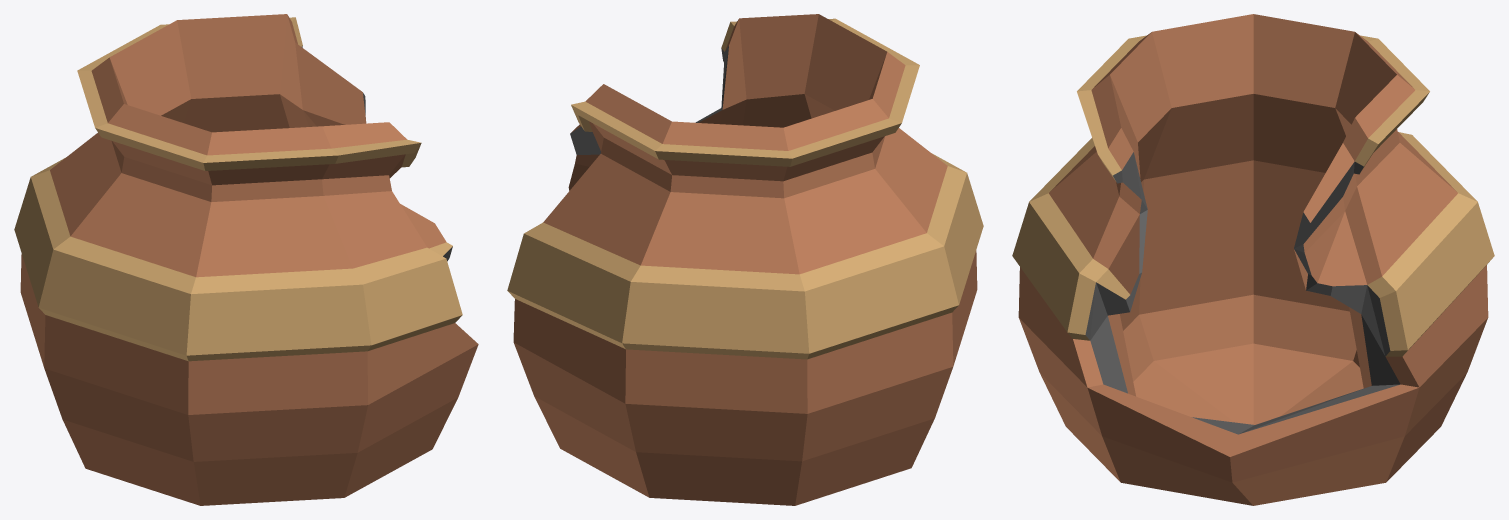
Rendered from VaseRoundBroken.fbx.
3 views of the same model, side by side, from view 1: azimuth 30°, elevation 25°; view 2: azimuth 150°, elevation 25°; view 3: azimuth 270°, elevation 25° (orthographic). The views are drawn at different scales.
Visible parts, largest first — view 1: VaseRoundBroken; view 2: VaseRoundBroken; view 3: VaseRoundBroken.
Part boxes in pixels (bbox=[...]): VaseRoundBroken: bbox=[14, 14, 478, 505]; VaseRoundBroken: bbox=[507, 14, 983, 505]; VaseRoundBroken: bbox=[1012, 14, 1494, 505].
Bounding box in the file's own units: 65.04 × 60.84 × 70.85.
1 material, 1 textured.
